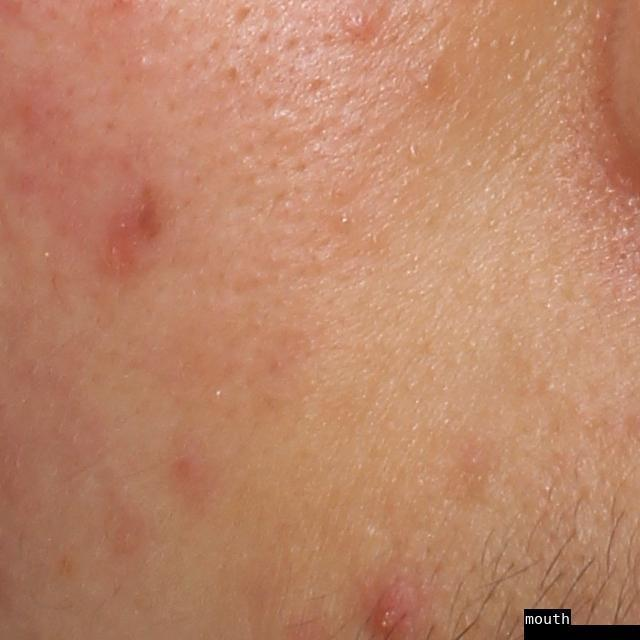comedo: (413, 63, 443, 98), (540, 378, 560, 396), (335, 212, 352, 228), (132, 53, 150, 67)
papule: (335, 3, 388, 48)
